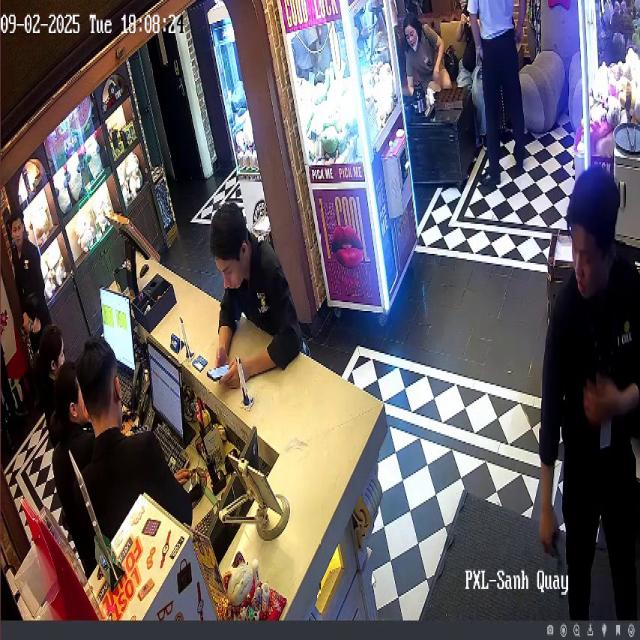khach: (462, 0, 533, 182), (396, 3, 456, 106)
nhan vien: (536, 157, 640, 618), (188, 184, 310, 431), (80, 312, 181, 541), (5, 192, 68, 435), (50, 337, 96, 548), (39, 298, 66, 465)
